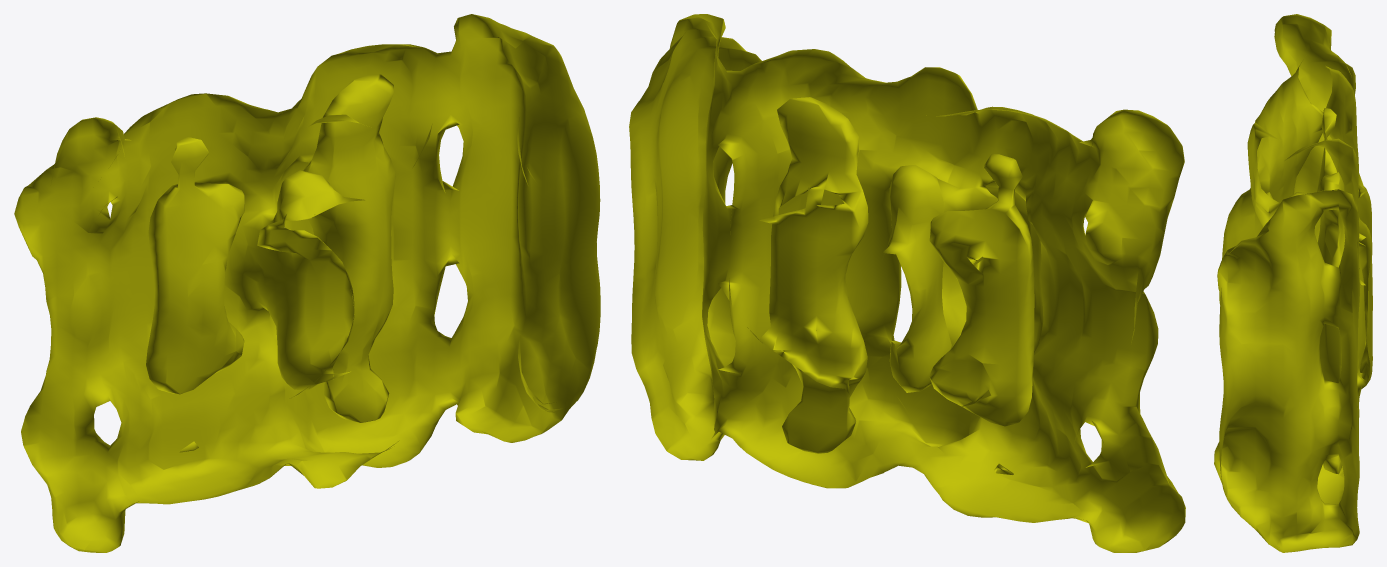
3 renders of one model, left to right at view 1: azimuth 30°, elevation 25°; view 2: azimuth 150°, elevation 25°; view 3: azimuth 270°, elevation 25°, orthographic. The views are drawn at different scales.
Visible parts, largest first — view 1: world; view 2: world; view 3: world.
Boxes of the visible parts, box(x1,y1,x2,y2) form: world: box(14, 14, 600, 552); world: box(629, 14, 1185, 552); world: box(1214, 14, 1372, 552).
Bounding box in the file's own units: 37.2 × 28.97 × 11.45.
